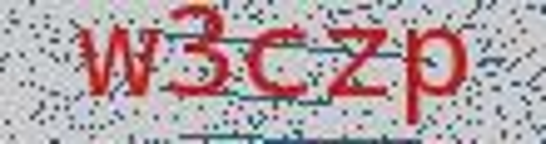3: (163, 2, 234, 107)
c: (246, 19, 311, 110)
p: (395, 20, 475, 135)
w: (68, 17, 158, 104)
z: (322, 19, 389, 109)
